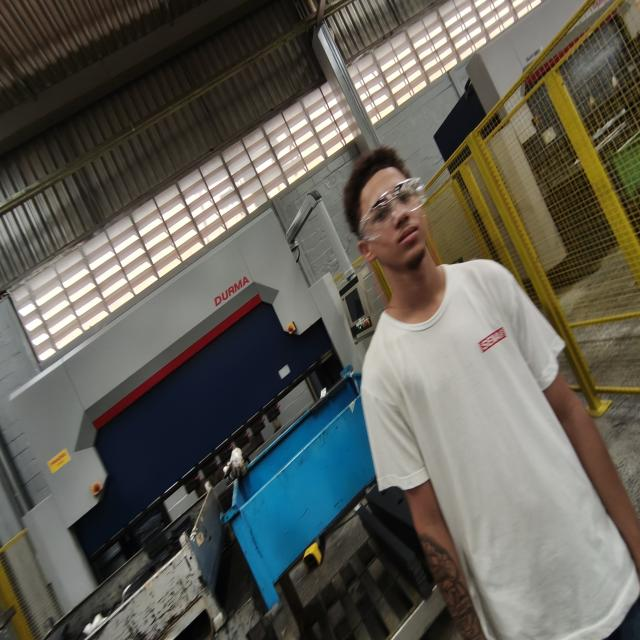oculos-epi: (359, 178, 425, 241)
